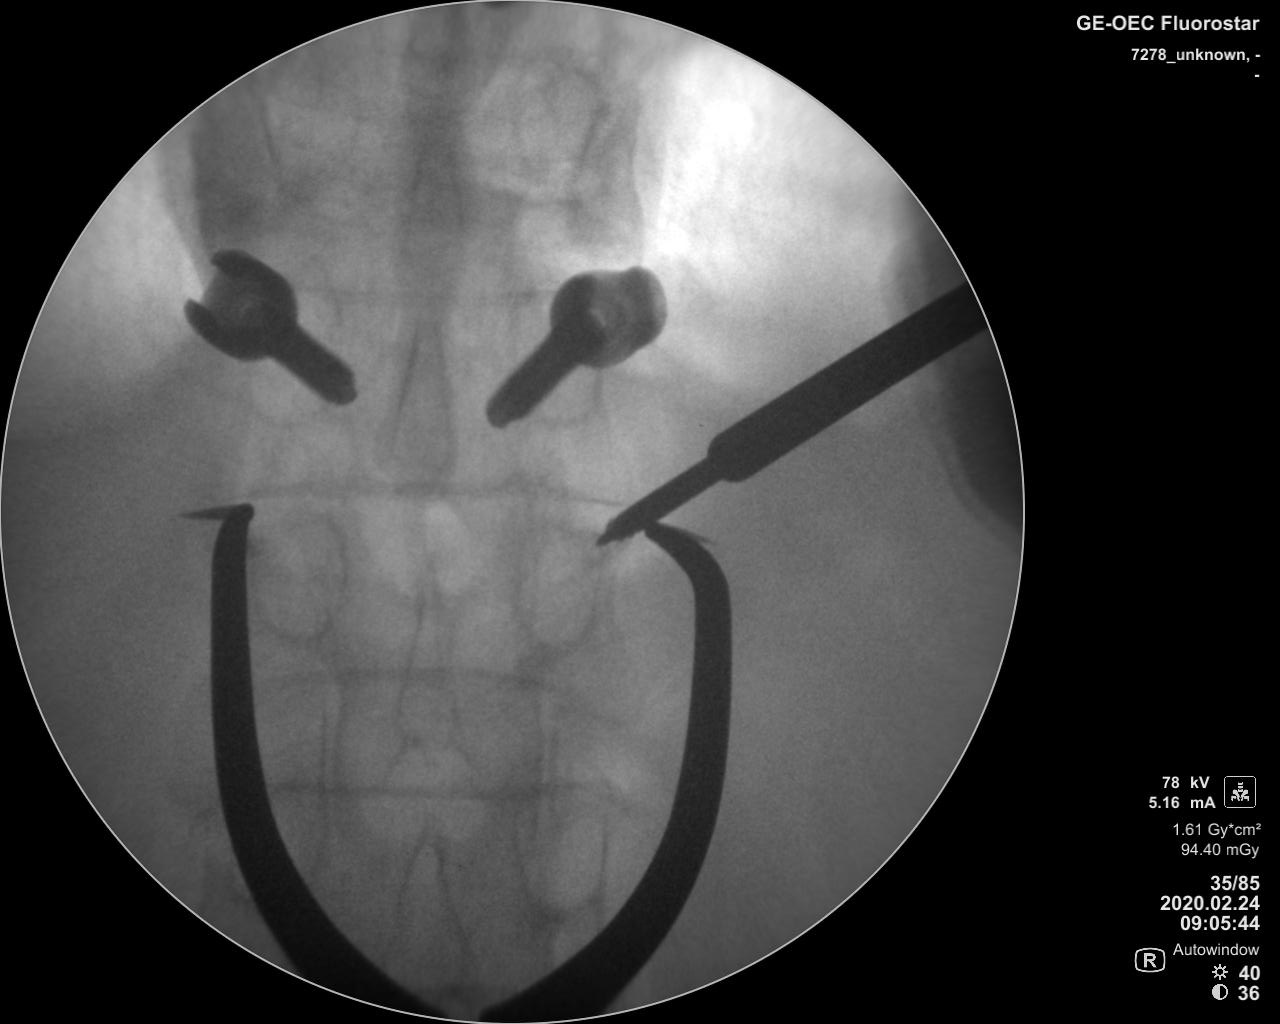eyes: (243, 283, 338, 428), (250, 507, 345, 644), (501, 304, 601, 432), (509, 785, 605, 917), (510, 525, 601, 649)
line: (239, 476, 623, 508), (269, 772, 599, 804), (257, 664, 567, 695), (303, 273, 546, 311)
nose: (378, 308, 455, 497), (392, 129, 466, 317), (391, 827, 468, 999), (391, 552, 456, 754), (399, 7, 478, 130)
